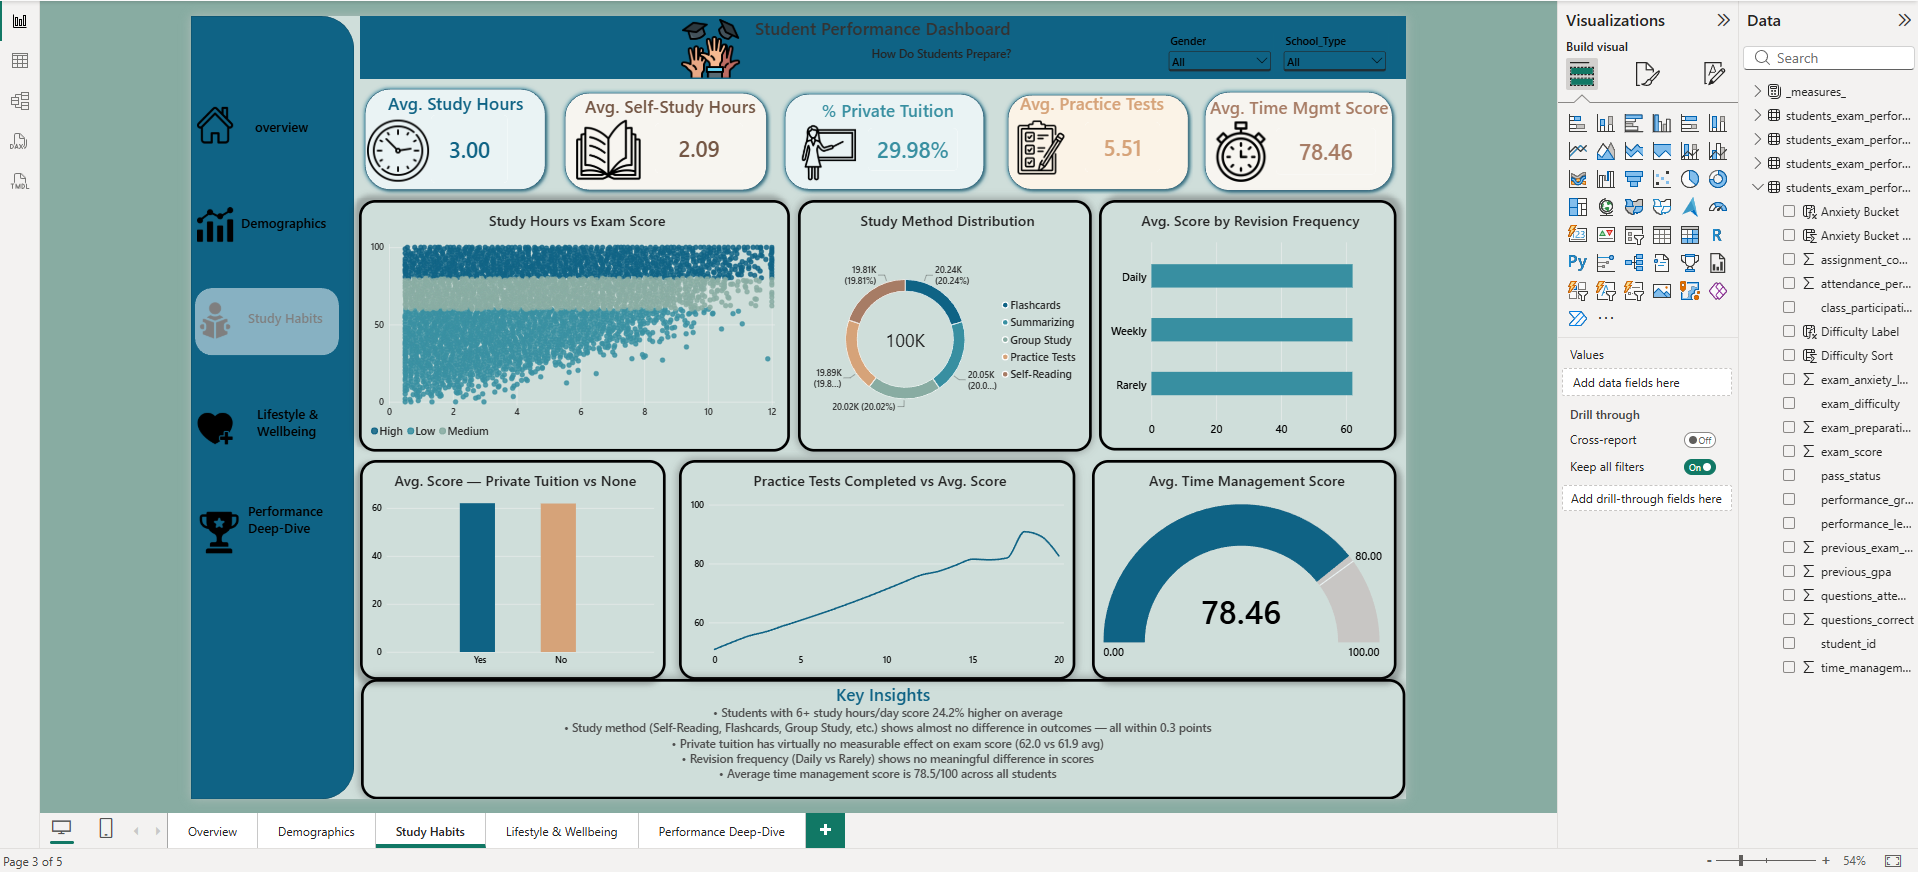

The page's visual inventory and layout, read from the dashboard file:
{"tool":"powerbi","page":{"name":"Study Habits","canvas":[2250,1450],"ordinal":2},"visuals":[{"type":"group","id":"g1","title":"Group 2","box":[0,0,301.7,1450],"z":0,"group":"g2"},{"type":"group","id":"g2","title":"Group 3","box":[0,0,301.7,1450],"z":0},{"type":"shape","box":[0,0,302,1450.4],"z":0,"group":"g1"},{"type":"group","id":"g3","title":"Group 5","box":[312.2,0.1,1936.4,116],"z":0,"group":"g10"},{"type":"image","box":[903.6,3.7,117.3,112.4],"z":0,"group":"g9"},{"type":"textbox","box":[1145.5,55.7,486.4,51.6],"z":0,"group":"g3"},{"type":"shape","box":[312.9,126.4,352.5,204.9],"z":0,"group":"g4"},{"type":"group","id":"g4","title":"Group 7","box":[312.9,126.4,352.5,220.6],"z":0,"group":"g12"},{"type":"shape","box":[1869.2,130.8,365.6,201.1],"z":0,"group":"g5"},{"type":"group","id":"g5","title":"Group 7","box":[1869.2,130.8,365.6,201.1],"z":0,"group":"g16"},{"type":"shape","box":[683.6,132.8,391.8,198.4],"z":0,"group":"g6"},{"type":"group","id":"g6","title":"Group 7","box":[683.6,132.8,391.8,198.4],"z":0,"group":"g13"},{"type":"group","id":"g7","title":"Group 7","box":[1090.2,136.1,386.9,195.1],"z":0,"group":"g14"},{"type":"shape","box":[1090.2,136.1,386.9,195.1],"z":0,"group":"g7"},{"type":"group","id":"g8","title":"Group 7","box":[1503.3,137.7,352.5,193.5],"z":0,"group":"g15"},{"type":"shape","box":[1503.3,137.7,352.5,193.5],"z":0,"group":"g8"},{"type":"textbox","box":[117.4,189.8,133.1,55.6],"z":0,"group":"g11"},{"type":"textbox","box":[312.2,0.1,1936.4,98.5],"z":1000,"group":"g9"},{"type":"group","id":"g9","title":"Group 4","box":[312.2,0.1,1936.4,116],"z":1000,"group":"g3"},{"type":"group","id":"g10","title":"Group 6","box":[312.2,0.1,1936.4,116],"z":1000},{"type":"slicer","fields":{"Values":["students_exam_performance dim_students.school_type"]},"box":[2018.3,31.5,198.7,79],"z":1000,"group":"g10"},{"type":"textbox","box":[365.5,138.8,298.8,88.9],"z":1000,"group":"g12"},{"type":"textbox","box":[1534,139.9,313.1,57.4],"z":1000,"group":"g15"},{"type":"textbox","box":[730.1,144.6,327.9,60.7],"z":1000,"group":"g13"},{"type":"textbox","box":[1888.4,144.9,362.3,45],"z":1000,"group":"g16"},{"type":"image","box":[326.1,151.9,114.8,195.1],"z":1000,"group":"g4"},{"type":"textbox","box":[1167.2,153.5,271,57.1],"z":1000,"group":"g14"},{"type":"shape","box":[9.8,156.5,264.3,144.3],"z":1000,"group":"g2"},{"type":"image","box":[10.7,159.3,67.3,86.1],"z":1000,"group":"g11"},{"type":"group","id":"g11","title":"Group 1","box":[10.7,159.3,264.7,852.2],"z":1000,"group":"g1"},{"type":"image","box":[713.8,179.1,119.7,136.1],"z":1000,"group":"g6"},{"type":"image","box":[1524,182.8,100,124.7],"z":1000,"group":"g8"},{"type":"image","box":[1890.2,185.1,111.5,131.9],"z":1000,"group":"g5"},{"type":"image","box":[1108,191.7,144.3,124.6],"z":1000,"group":"g7"},{"type":"slicer","fields":{"Values":["students_exam_performance dim_students.gender"]},"box":[1805.4,31.5,198.7,79],"z":2000,"group":"g10"},{"type":"cardVisual","fields":{"Data":["_measures_.Average Study Hours"]},"box":[444.2,183,142.6,126.2],"z":2000,"group":"g4"},{"type":"cardVisual","fields":{"Data":["_measures_.Average Practice Tests"]},"box":[1655.6,196.9,139,94],"z":2000,"group":"g8"},{"type":"cardVisual","fields":{"Data":["_measures_.Average Self Study Hours"]},"box":[859.9,198.5,163.2,93.1],"z":2000,"group":"g6"},{"type":"cardVisual","fields":{"Data":["_measures_.Average Time Management Score"]},"box":[2009.8,206,185.2,86],"z":2000,"group":"g5"},{"type":"cardVisual","fields":{"Data":["_measures_.Percent Private Tuition"]},"box":[1253.9,208.1,166.1,79],"z":2000,"group":"g7"},{"type":"shape","box":[7.4,329.6,257.4,120.4],"z":2000},{"type":"textbox","box":[92.6,367.4,182.8,53.8],"z":2000,"group":"g11"},{"type":"shape","box":[6.9,504.5,266.6,124.7],"z":2000,"group":"g2"},{"type":"group","id":"g12","title":"Group 8","box":[312.9,126.4,352.5,220.6],"z":3000},{"type":"image","box":[10.7,349.5,67.3,71.8],"z":3000,"group":"g11"},{"type":"shape","box":[10.9,704.9,264.3,144.3],"z":3000,"group":"g2"},{"type":"group","id":"g13","title":"Group 8","box":[683.6,132.8,391.8,198.4],"z":4000},{"type":"image","box":[10.7,509.1,67.3,109.4],"z":4000,"group":"g11"},{"type":"shape","box":[9.8,893.6,264.3,144.3],"z":4000,"group":"g2"},{"type":"group","id":"g14","title":"Group 8","box":[1090.2,136.1,386.9,195.1],"z":5000},{"type":"textbox","box":[105.7,543.2,157.9,41.3],"z":5000,"group":"g11"},{"type":"group","id":"g15","title":"Group 8","box":[1503.3,137.7,352.5,193.5],"z":6000},{"type":"textbox","box":[121.8,720.9,124.3,100.5],"z":6000,"group":"g11"},{"type":"group","id":"g16","title":"Group 8","box":[1869.2,130.8,380.8,200],"z":7000},{"type":"image","box":[10.7,704.7,67.3,116.6],"z":7000,"group":"g11"},{"type":"scatterChart","title":"Study Hours vs Exam Score","fields":{"Series":["students_exam_performance fact_exam_performance.performance_level"],"X":["students_exam_performance dim_study_habits.study_hours_per_day"],"Y":["students_exam_performance fact_exam_performance.exam_score"]},"box":[310.8,341.5,798.4,465.6],"z":8000},{"type":"textbox","box":[105.7,900.3,157.9,111.2],"z":8000,"group":"g11"},{"type":"donutChart","title":"Study Method Distribution","fields":{"Category":["students_exam_performance dim_study_habits.study_method"],"Y":["CountNonNull(students_exam_performance fact_exam_performance.student_id)"]},"box":[1124.6,341.5,544.3,465.6],"z":9000},{"type":"image","box":[10.7,900.3,81.9,111.2],"z":9000,"group":"g11"},{"type":"barChart","title":"Avg. Score by Revision Frequency","fields":{"Category":["students_exam_performance dim_study_habits.revision_frequency"],"Y":["_measures_.Average Exam Score"]},"box":[1681.5,341.5,550.8,463.9],"z":10000},{"type":"clusteredColumnChart","title":"Avg. Score — Private Tuition vs None","fields":{"Category":["students_exam_performance dim_study_habits.Tuition Label"],"Y":["_measures_.Average Exam Score"]},"box":[312.3,821.5,565.6,406.6],"z":11000},{"type":"lineChart","title":"Practice Tests Completed vs Avg. Score","fields":{"Category":["students_exam_performance dim_study_habits.practice_tests_completed"],"Y":["_measures_.Average Exam Score"]},"box":[903.1,821.5,734.4,406.6],"z":12000},{"type":"gauge","title":"Avg. Time Management Score","fields":{"Y":["_measures_.Average Time Management Score"]},"box":[1667.7,821.5,563.9,406.6],"z":13000},{"type":"textbox","box":[315.4,1227.7,1933.8,223.1],"z":14000}]}

Visuals, with their boxes on the page's 2250x1450 design canvas (x1, y1, x2, y2). These are canvas units, not pixel positions in the 1918x872 screenshot, which may show the page scaled, cropped or inside an application window:
"Group 2" group: BBox(0, 0, 302, 1450)
"Group 3" group: BBox(0, 0, 302, 1450)
shape: BBox(0, 0, 302, 1450)
"Group 5" group: BBox(312, 0, 2249, 116)
image: BBox(904, 4, 1021, 116)
textbox: BBox(1146, 56, 1632, 107)
shape: BBox(313, 126, 665, 331)
"Group 7" group: BBox(313, 126, 665, 347)
shape: BBox(1869, 131, 2235, 332)
"Group 7" group: BBox(1869, 131, 2235, 332)
shape: BBox(684, 133, 1075, 331)
"Group 7" group: BBox(684, 133, 1075, 331)
"Group 7" group: BBox(1090, 136, 1477, 331)
shape: BBox(1090, 136, 1477, 331)
"Group 7" group: BBox(1503, 138, 1856, 331)
shape: BBox(1503, 138, 1856, 331)
textbox: BBox(117, 190, 250, 245)
textbox: BBox(312, 0, 2249, 99)
"Group 4" group: BBox(312, 0, 2249, 116)
"Group 6" group: BBox(312, 0, 2249, 116)
slicer - students_exam_performance dim_students.school_type: BBox(2018, 32, 2217, 110)
textbox: BBox(366, 139, 664, 228)
textbox: BBox(1534, 140, 1847, 197)
textbox: BBox(730, 145, 1058, 205)
textbox: BBox(1888, 145, 2251, 190)
image: BBox(326, 152, 441, 347)
textbox: BBox(1167, 154, 1438, 211)
shape: BBox(10, 156, 274, 301)
image: BBox(11, 159, 78, 245)
"Group 1" group: BBox(11, 159, 275, 1012)
image: BBox(714, 179, 834, 315)
image: BBox(1524, 183, 1624, 308)
image: BBox(1890, 185, 2002, 317)
image: BBox(1108, 192, 1252, 316)
slicer - students_exam_performance dim_students.gender: BBox(1805, 32, 2004, 110)
cardVisual - _measures_.Average Study Hours: BBox(444, 183, 587, 309)
cardVisual - _measures_.Average Practice Tests: BBox(1656, 197, 1795, 291)
cardVisual - _measures_.Average Self Study Hours: BBox(860, 198, 1023, 292)
cardVisual - _measures_.Average Time Management Score: BBox(2010, 206, 2195, 292)
cardVisual - _measures_.Percent Private Tuition: BBox(1254, 208, 1420, 287)
shape: BBox(7, 330, 265, 450)
textbox: BBox(93, 367, 275, 421)
shape: BBox(7, 504, 274, 629)
"Group 8" group: BBox(313, 126, 665, 347)
image: BBox(11, 350, 78, 421)
shape: BBox(11, 705, 275, 849)
"Group 8" group: BBox(684, 133, 1075, 331)
image: BBox(11, 509, 78, 618)
shape: BBox(10, 894, 274, 1038)
"Group 8" group: BBox(1090, 136, 1477, 331)
textbox: BBox(106, 543, 264, 584)
"Group 8" group: BBox(1503, 138, 1856, 331)
textbox: BBox(122, 721, 246, 821)
"Group 8" group: BBox(1869, 131, 2250, 331)
image: BBox(11, 705, 78, 821)
"Study Hours vs Exam Score" scatterChart: BBox(311, 342, 1109, 807)
textbox: BBox(106, 900, 264, 1012)
"Study Method Distribution" donutChart: BBox(1125, 342, 1669, 807)
image: BBox(11, 900, 93, 1012)
"Avg. Score by Revision Frequency" barChart: BBox(1682, 342, 2232, 805)
"Avg. Score — Private Tuition vs None" clusteredColumnChart: BBox(312, 822, 878, 1228)
"Practice Tests Completed vs Avg. Score" lineChart: BBox(903, 822, 1638, 1228)
"Avg. Time Management Score" gauge: BBox(1668, 822, 2232, 1228)
textbox: BBox(315, 1228, 2249, 1451)
